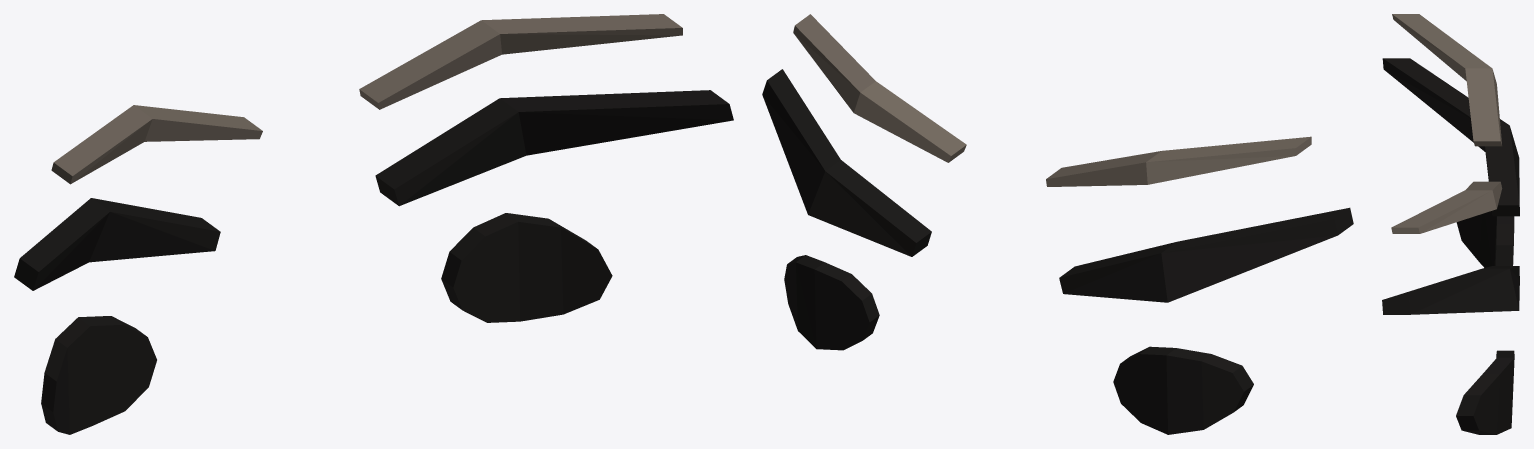
The model's file is scholar_male_face.obj.
The picture shows the model from 3 angles, left to right: view 1: azimuth 30°, elevation 25°; view 2: azimuth 150°, elevation 25°; view 3: azimuth 270°, elevation 25°; orthographic projection. The views are drawn at different scales.
Visible parts, largest first — view 1: scholar_male_face; view 2: scholar_male_face; view 3: scholar_male_face.
Boxes of the visible parts, x1,y1,x2,y2 form: scholar_male_face: [14, 14, 733, 434]; scholar_male_face: [762, 14, 1353, 434]; scholar_male_face: [1382, 14, 1519, 434].
Size of the model in its own units: 0.2982 by 0.1317 by 0.0708.
